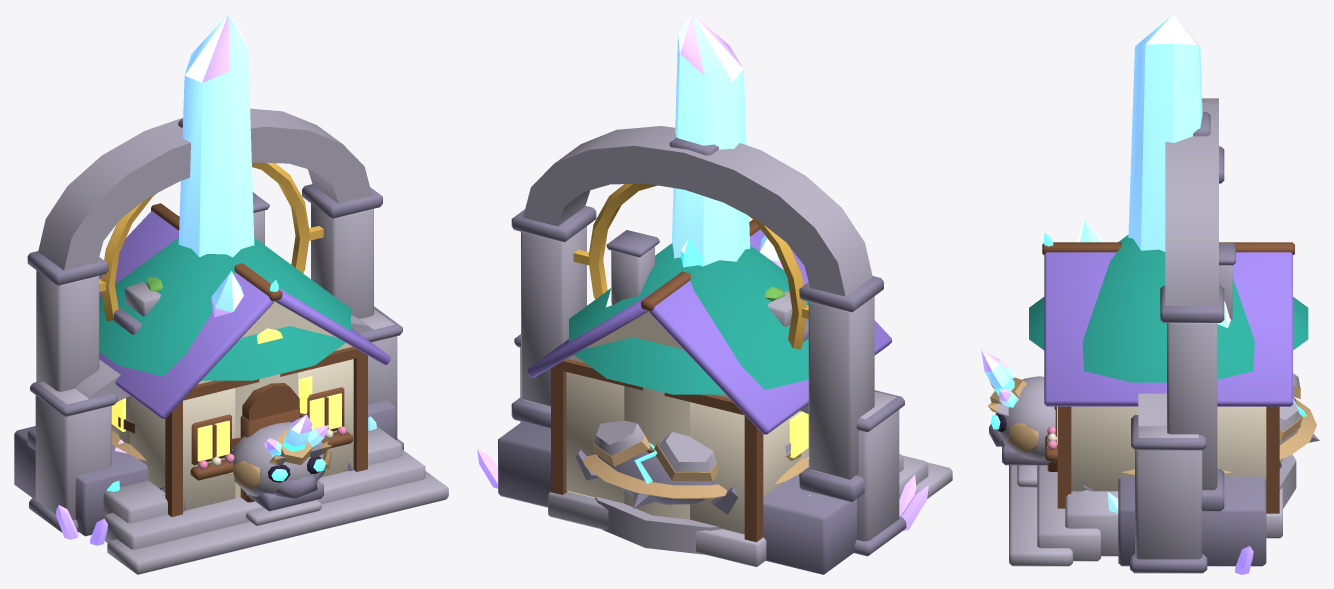
Rendered from synes_kit.glb.
3 views of the same model, side by side, from view 1: azimuth 30°, elevation 25°; view 2: azimuth 150°, elevation 25°; view 3: azimuth 270°, elevation 25° (orthographic). The views are drawn at different scales.
Visible parts, largest first — view 1: ruin_arch_shrine, house_a, house_b, crystal_spire, crystal_gate, prismback_body, ruin_arch, prismback_horn; view 2: ruin_arch_shrine, house_a, house_b, crystal_spire, prismback_shell, crystal_gate, ruin_arch, prismback_legs, prismback_body; view 3: ruin_arch_shrine, house_a, house_b, crystal_spire, crystal_gate, prismback_body, prismback_shell, prismback_horn.
Part boxes in pixels (box(x1,y1,x2,y2)): ruin_arch_shrine: box(14, 108, 448, 574); house_a: box(99, 192, 390, 516); house_b: box(99, 237, 350, 525); crystal_spire: box(178, 14, 254, 317); crystal_gate: box(29, 306, 403, 532); prismback_body: box(231, 422, 332, 511); ruin_arch: box(113, 277, 162, 334); prismback_horn: box(264, 414, 329, 457); ruin_arch_shrine: box(477, 126, 952, 574); house_a: box(527, 220, 891, 567); house_b: box(569, 243, 808, 554); crystal_spire: box(606, 14, 783, 307); prismback_shell: box(583, 420, 808, 498); crystal_gate: box(514, 334, 906, 556); ruin_arch: box(764, 287, 808, 341); prismback_legs: box(576, 449, 738, 514); prismback_body: box(622, 488, 705, 508); ruin_arch_shrine: box(1009, 98, 1266, 574); house_a: box(1027, 232, 1294, 538); house_b: box(1017, 235, 1308, 508); crystal_spire: box(1076, 14, 1230, 328); crystal_gate: box(1107, 393, 1207, 573); prismback_body: box(988, 376, 1319, 465); prismback_shell: box(1122, 373, 1316, 475); prismback_horn: box(981, 349, 1018, 407).
Bounding box in the file's own units: 6.55 × 7.9 × 5.04.
